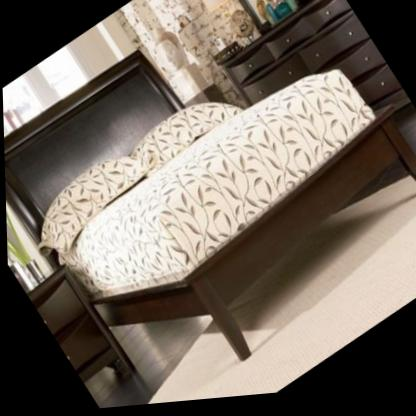Bed: (3, 53, 416, 366)
Carpet: (145, 180, 416, 407)
